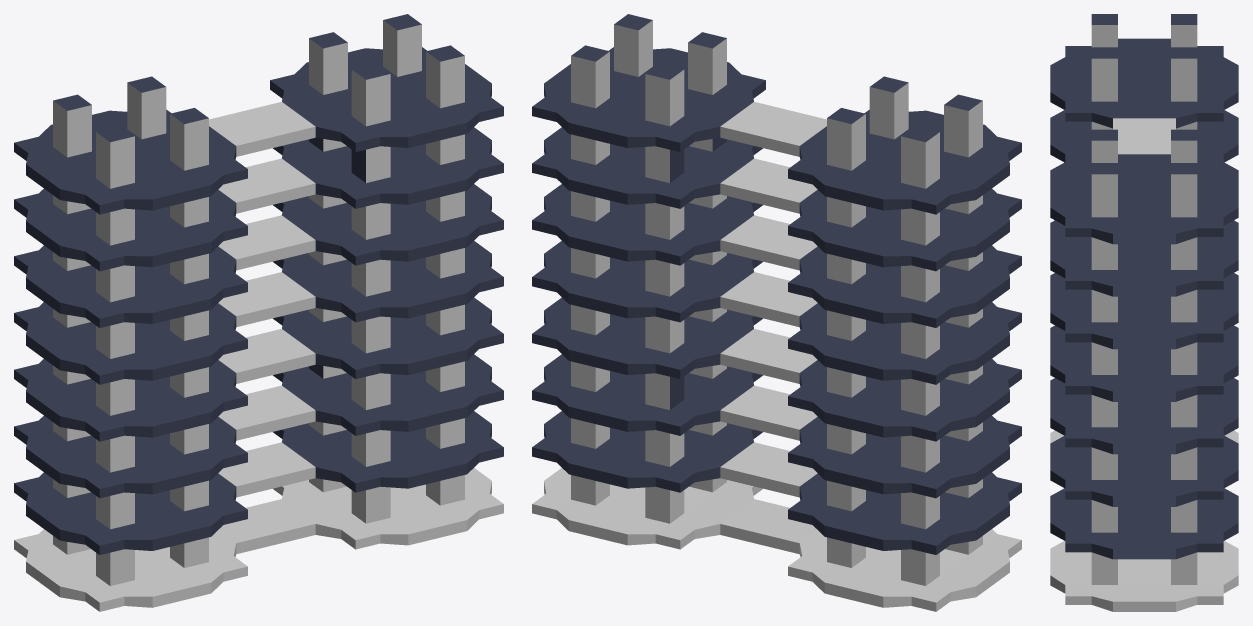
File: construction_building_1.fbx
3 renders of one model, left to right at view 1: azimuth 30°, elevation 25°; view 2: azimuth 150°, elevation 25°; view 3: azimuth 270°, elevation 25°, orthographic. The views are drawn at different scales.
Parts seen in each view (by area): view 1: Cube; view 2: Cube; view 3: Cube.
Boxes of the visible parts, box(x1,y1,x2,y2) form: Cube: box(14, 14, 503, 611); Cube: box(532, 14, 1021, 611); Cube: box(1050, 14, 1238, 611).
Size of the model in its own units: 2914 by 2925 by 1189.
